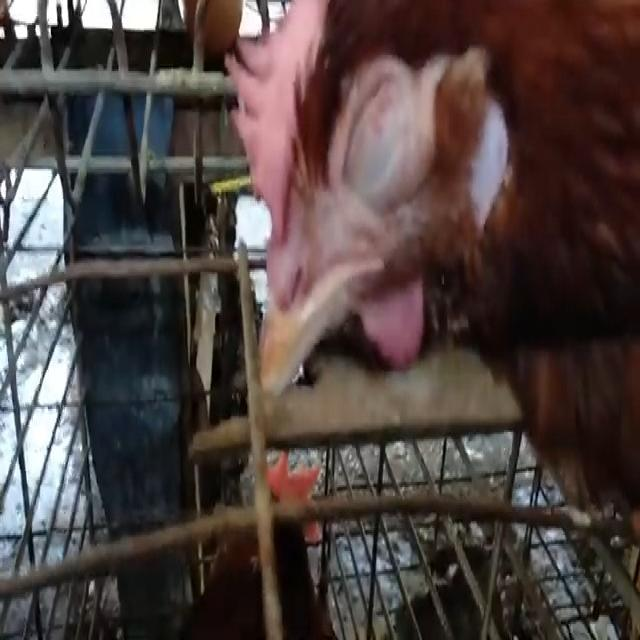bird flu: (235, 0, 639, 535)
